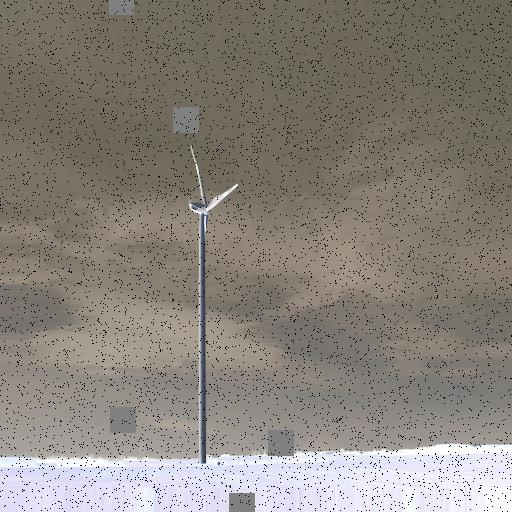wind turbine: (185, 144, 239, 463)
